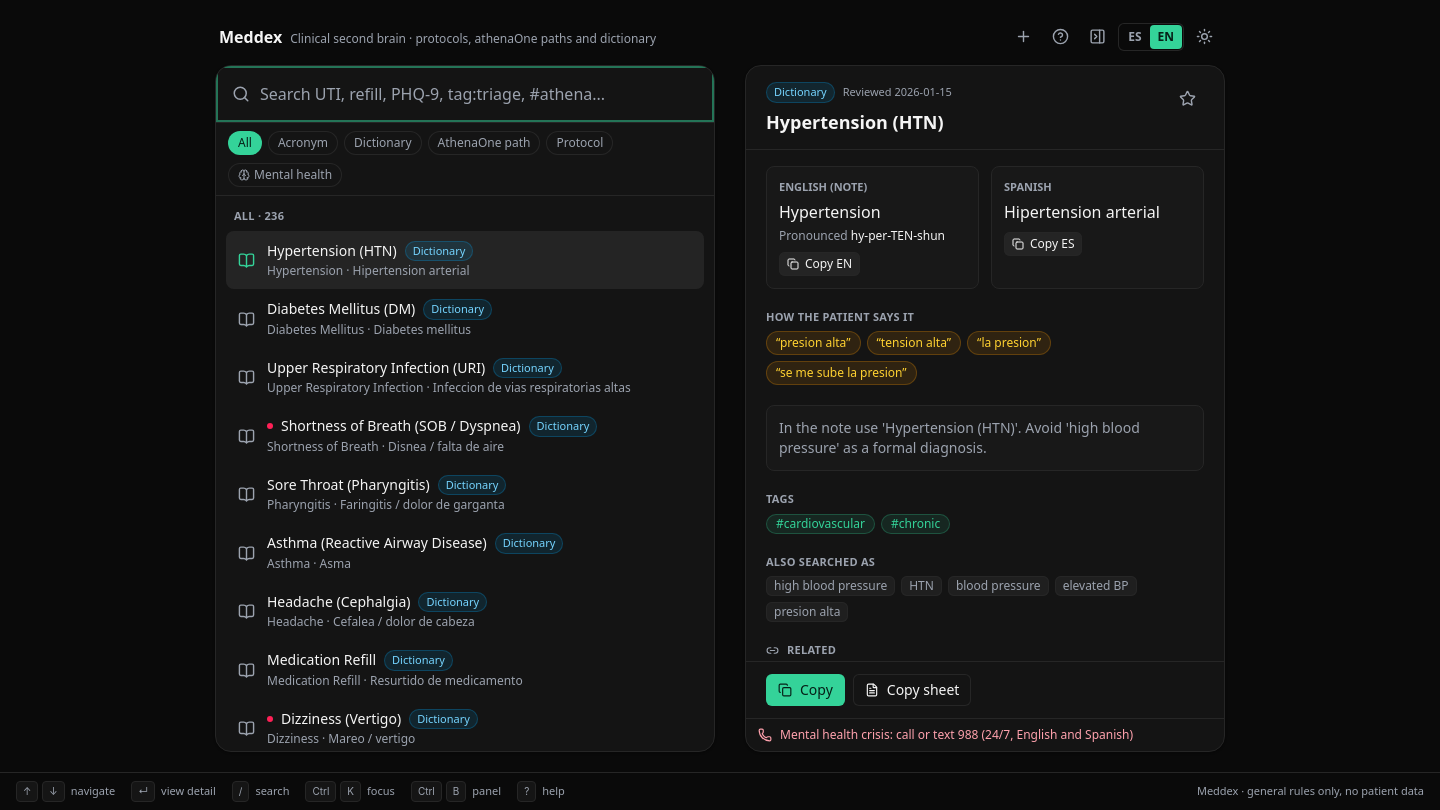
Test case: App (palette) › crea una entrada propia
Click the button named "New entry" at x=1024, y=36, box [1007,20,1040,53]
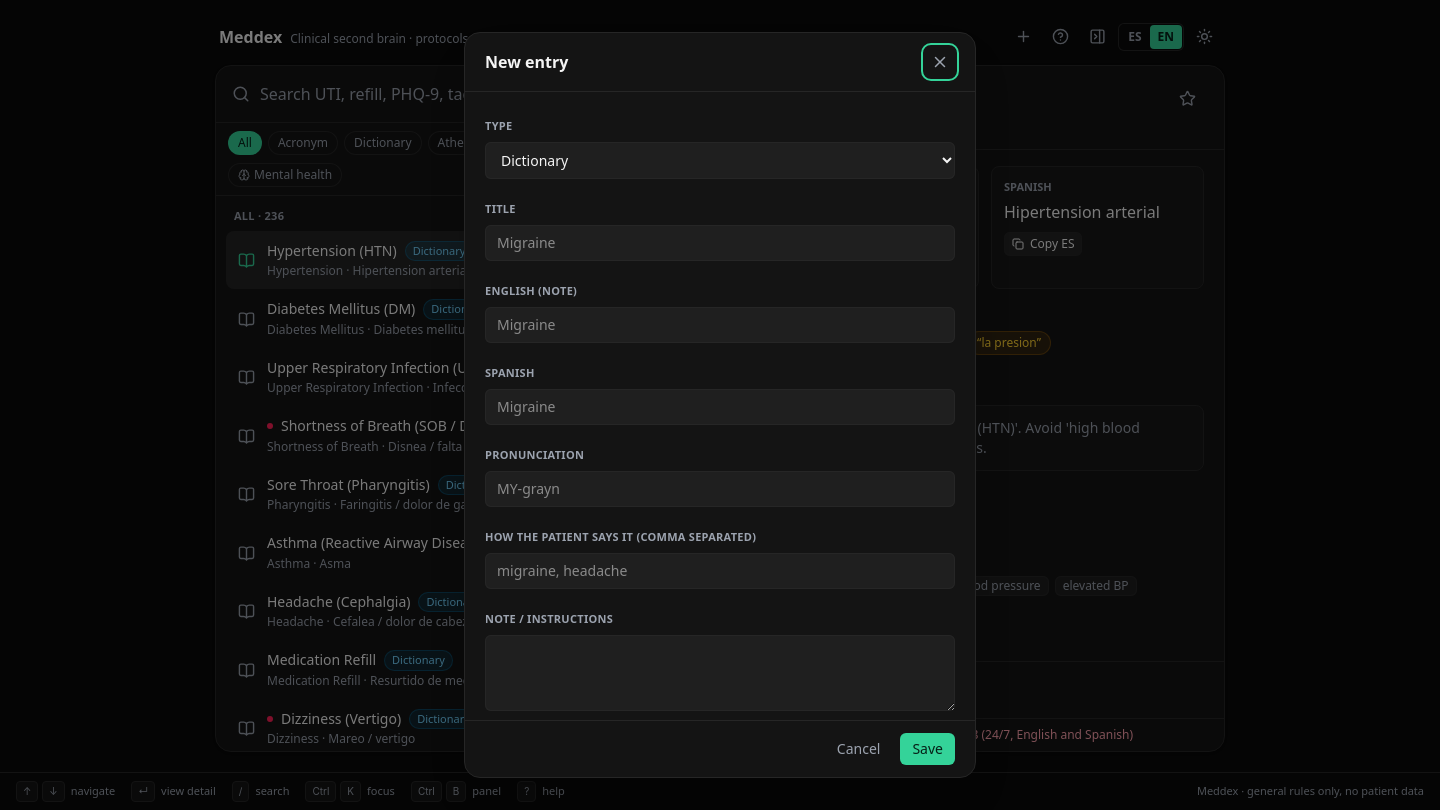
Type "Tension headache" into the field labelled "Title" at x=720, y=243, box [485,225,955,261]
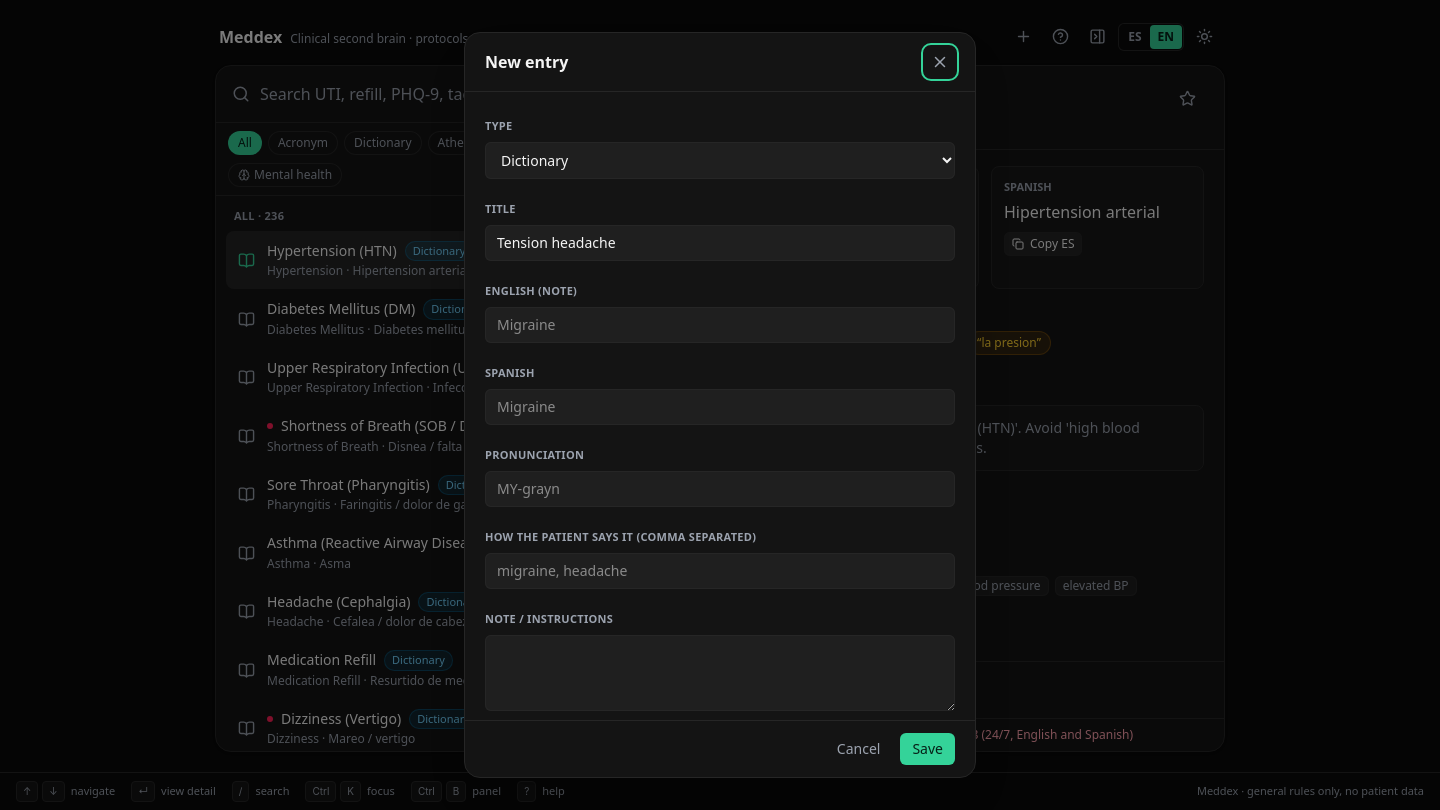
Click the button "Save" at x=928, y=749, box [900,733,955,765]
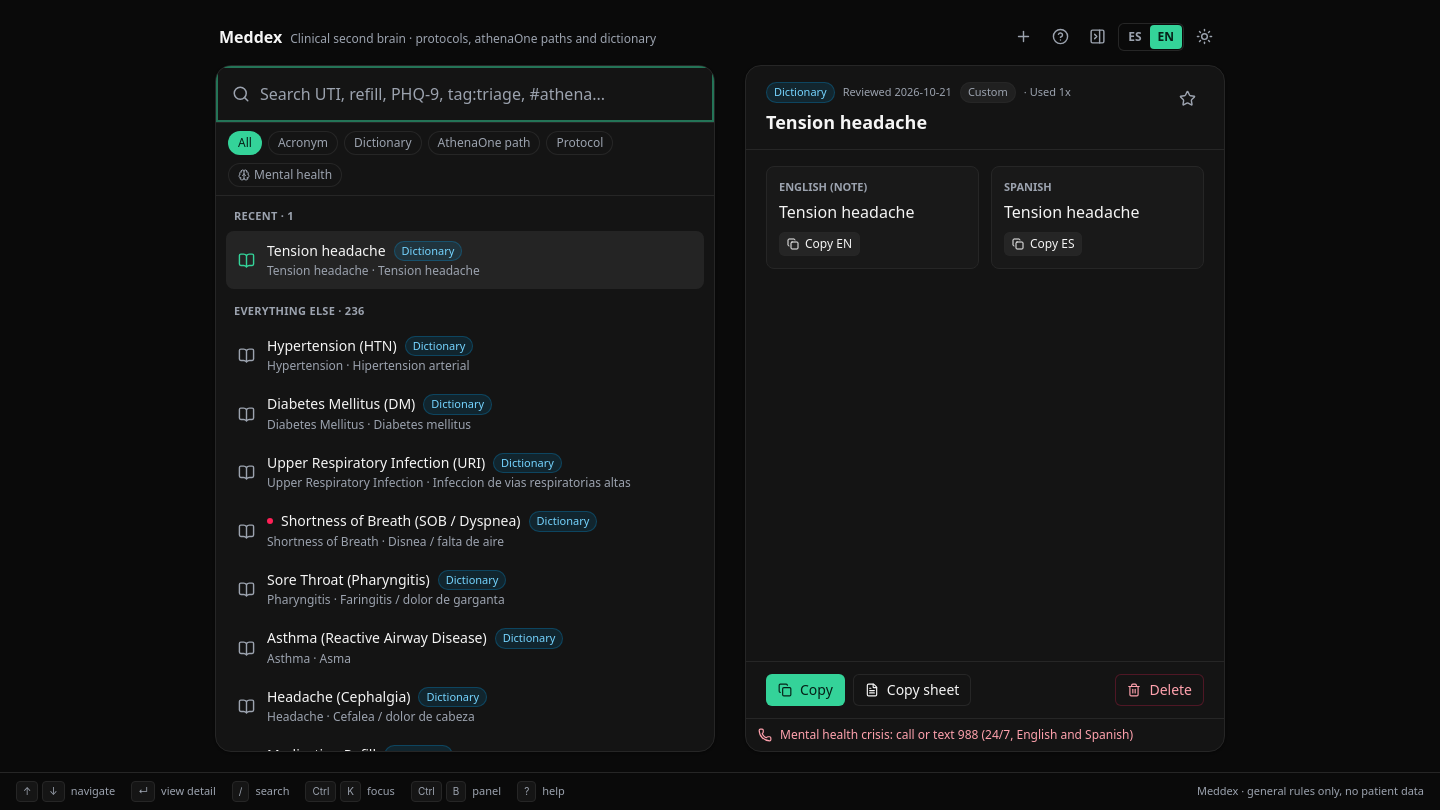
Expected: the text "Tension headache" below "Recent · 1" is shown, [267,241,386,260]
